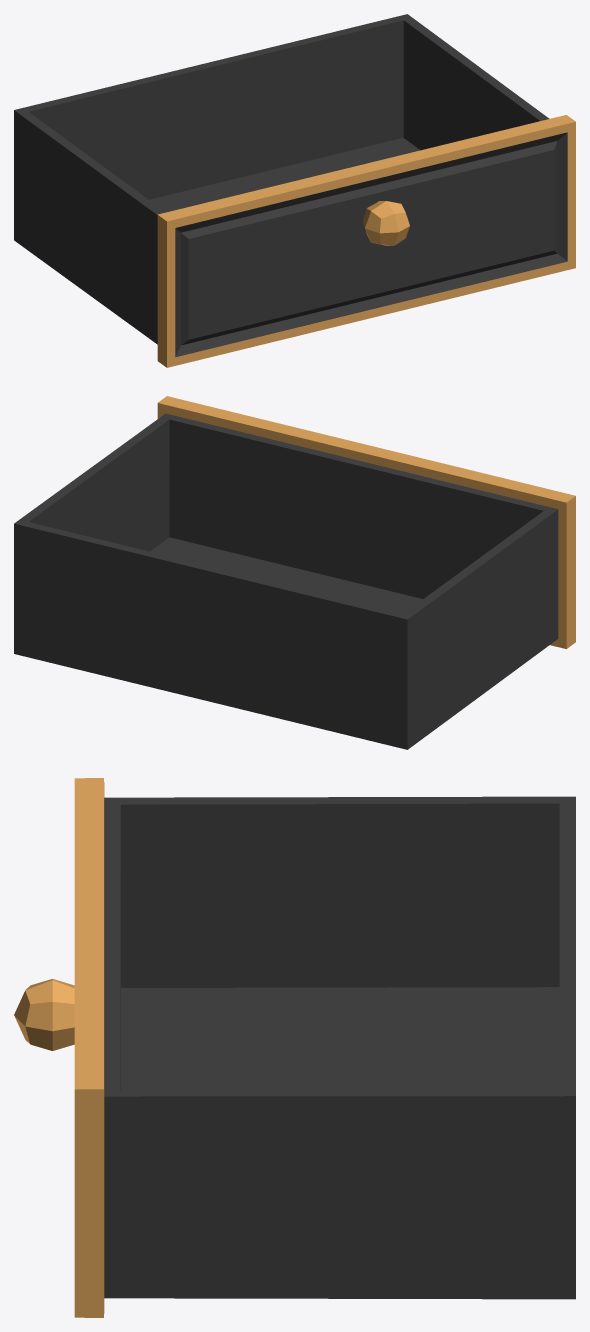
File: SideTableDrawer.fbx
The picture shows the model from 3 angles, top to bottom: view 1: azimuth 30°, elevation 25°; view 2: azimuth 150°, elevation 25°; view 3: azimuth 270°, elevation 25°; orthographic projection. The views are drawn at different scales.
Parts seen in each view (by area): view 1: CajonConsola; view 2: CajonConsola; view 3: CajonConsola.
Boxes of the visible parts, <box> form: CajonConsola: <box>14,14,575,367</box>; CajonConsola: <box>14,396,575,749</box>; CajonConsola: <box>14,778,575,1317</box>.
Size of the model in its own units: 67.31 by 23.03 by 51.35.
